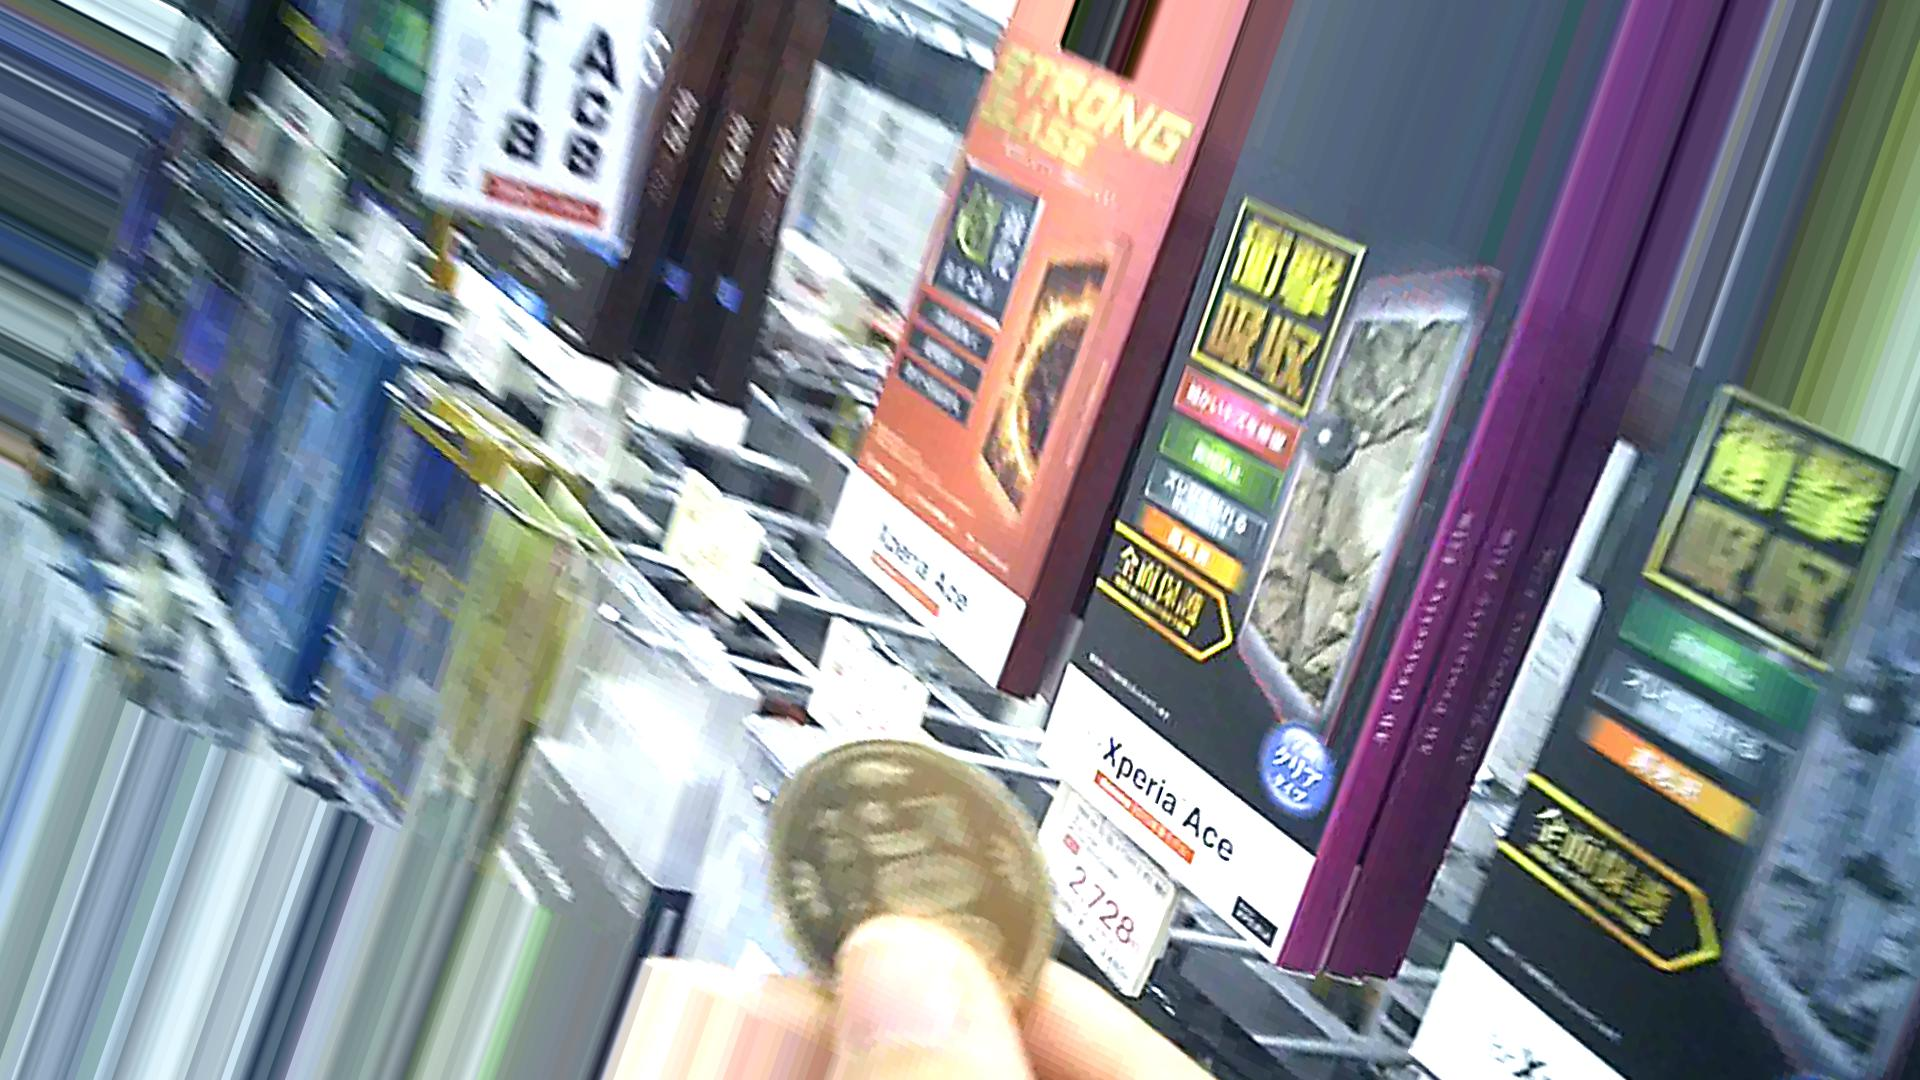500 Yen: (774, 728, 1056, 1011)
